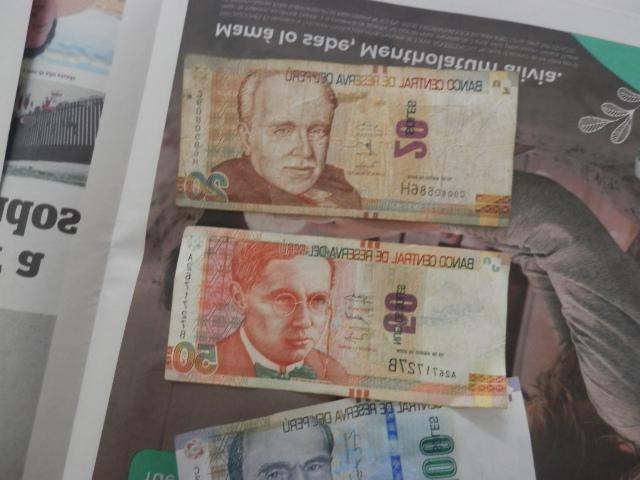B20: (179, 54, 512, 224)
B50: (171, 226, 509, 410)
